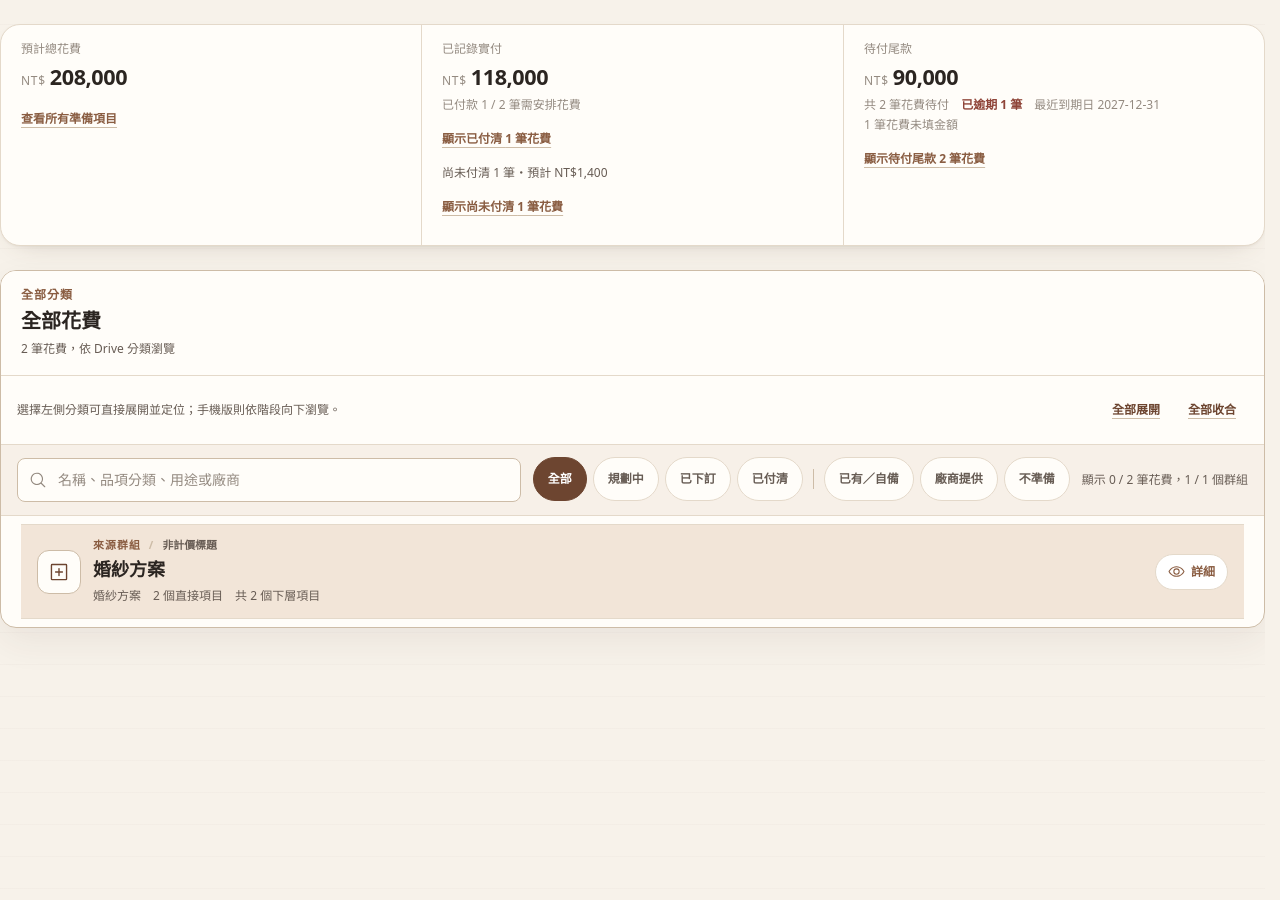
it: BudgetList › explains the planned-versus-paid gap and filters unpaid expenses
This screenshot has width=1280, height=900.
Expected: the text "尚未付清 1 筆・預計 NT$1,400" is shown, [442,164,608,181]
Step 1. Click the button "顯示尚未付清 1 筆花費" → (503, 207), box [442,185,563,229]
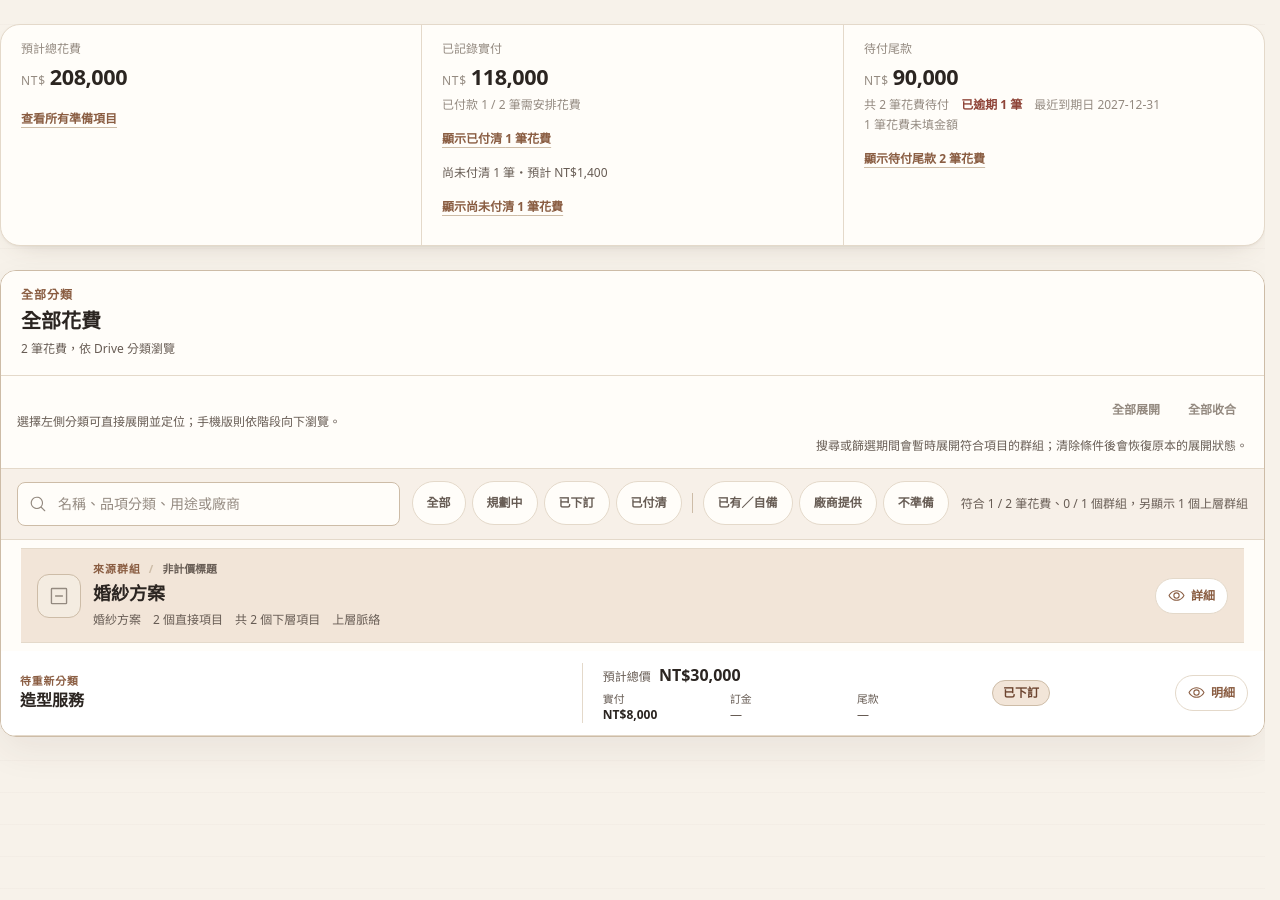
Expected: the text "符合 1 / 2 筆花費、0 / 1 個群組，另顯示 1 個上層群組" is shown, [961,496,1248,512]
